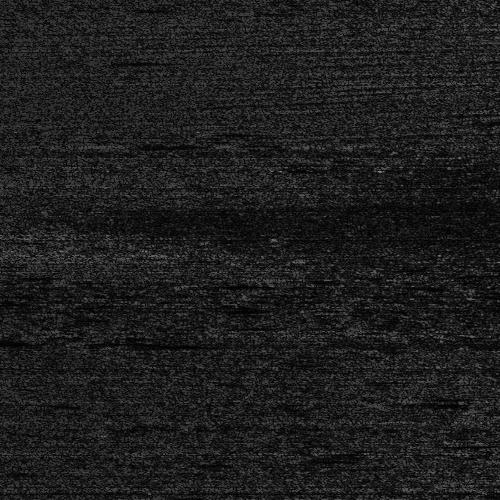rock: (89, 340, 152, 349)
shadow: (121, 340, 218, 349), (0, 336, 36, 343)
